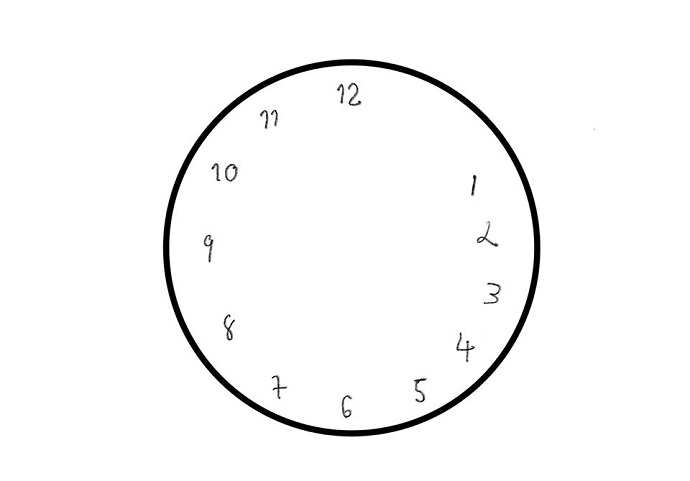eight: (221, 312, 237, 345)
eleven: (259, 108, 279, 131)
five: (410, 374, 429, 404)
four: (455, 331, 476, 367)
nine: (202, 232, 216, 264)
one: (467, 169, 482, 199)
seven: (270, 370, 289, 403)
six: (339, 390, 354, 422)
ten: (210, 157, 241, 187)
three: (481, 278, 502, 308)
twelve: (333, 81, 365, 107)
two: (474, 218, 500, 250)
